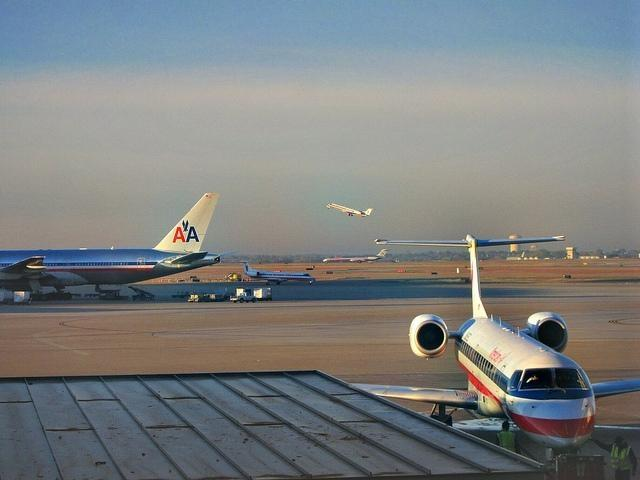truck: (230, 287, 256, 303), (254, 288, 273, 300)
